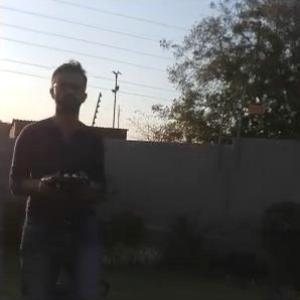follow: (3, 56, 112, 299)
